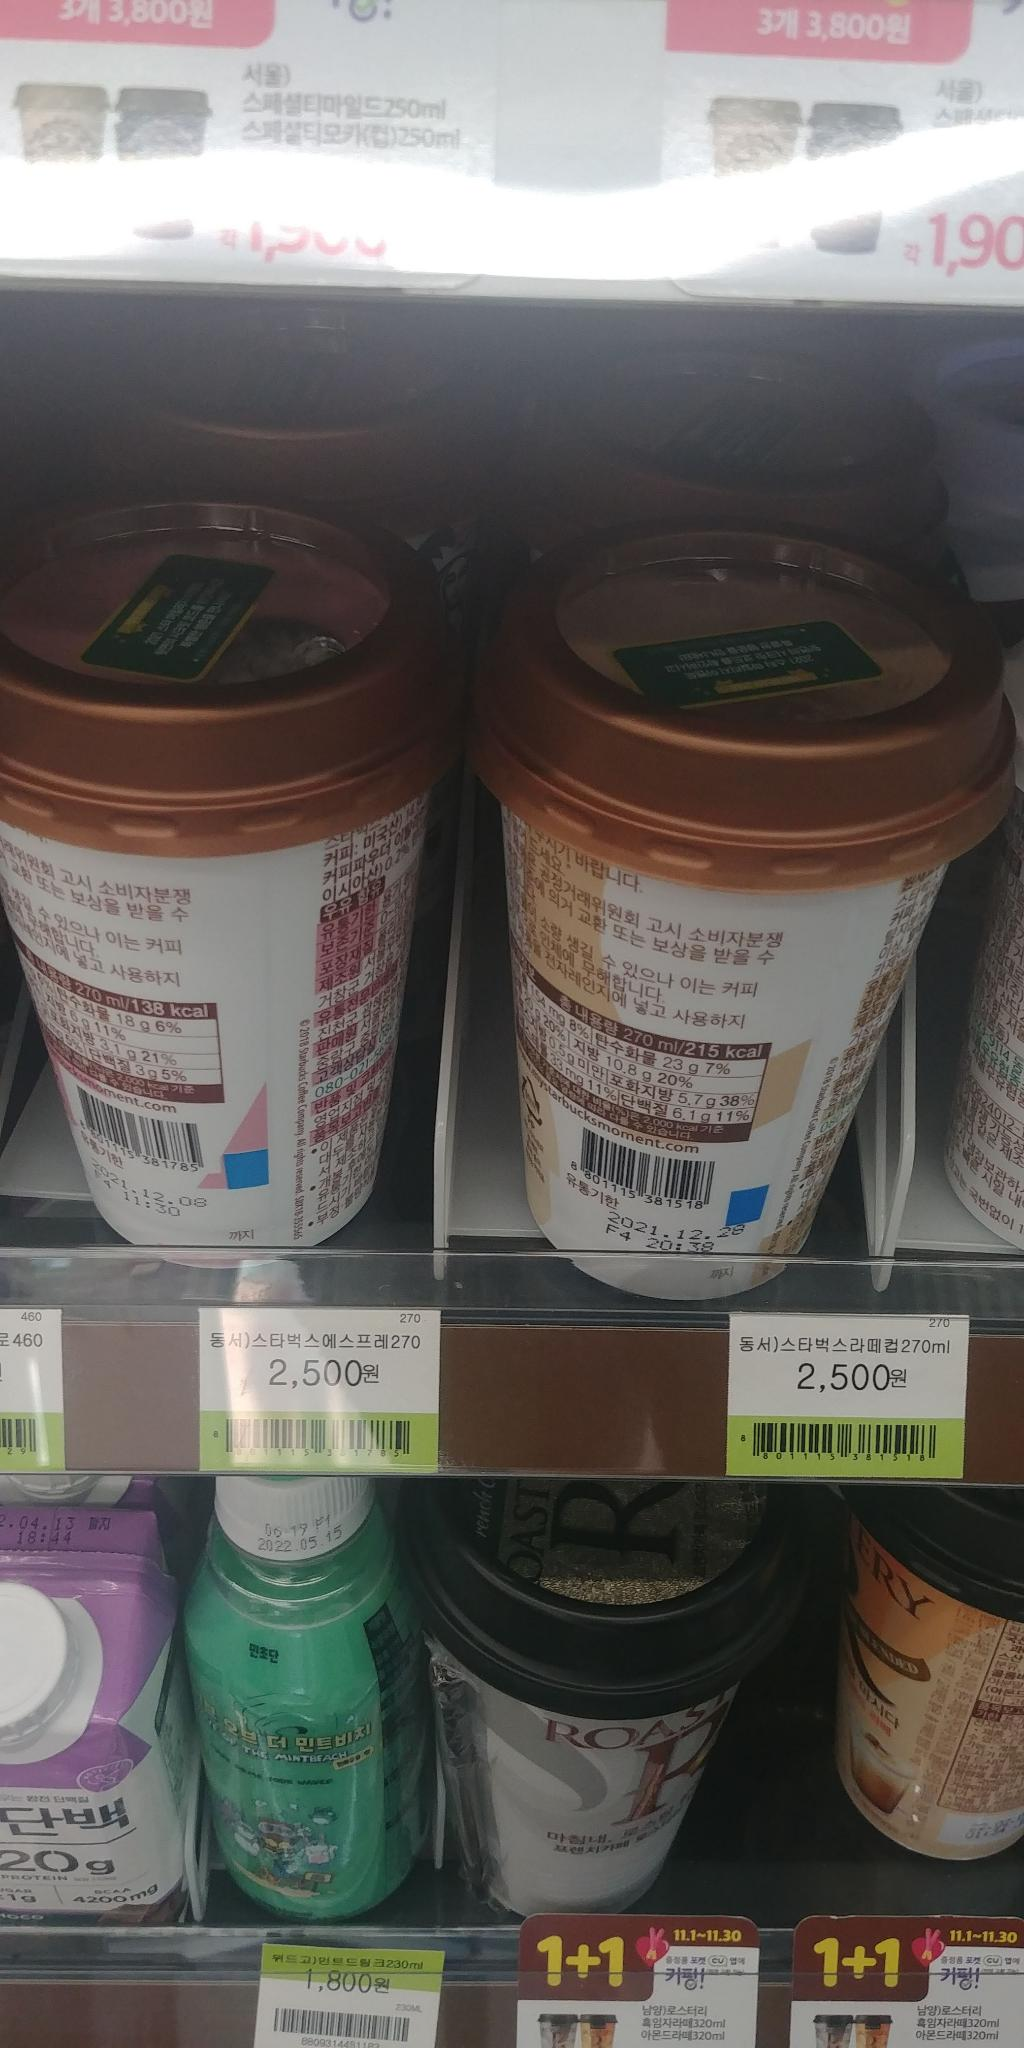starbucks_cafelatte: (490, 509, 986, 1294)
